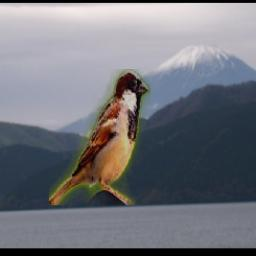Sparrow: (48, 69, 149, 205)
